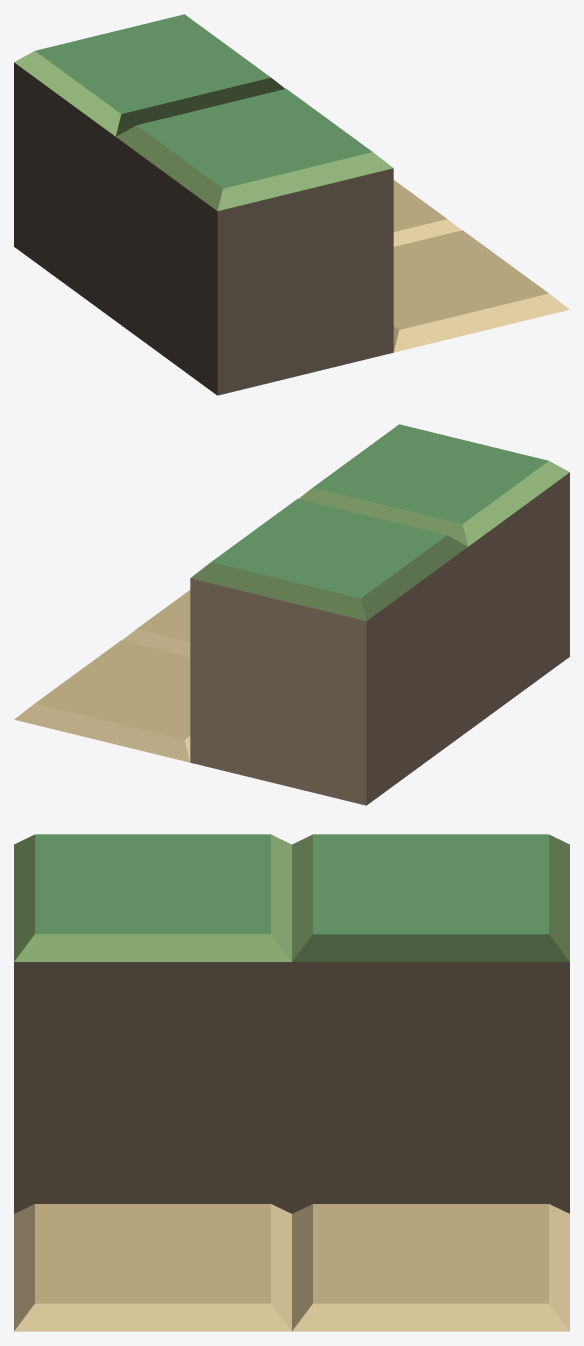
File: Cliff_Edge_Tile.001.obj
The picture shows the model from 3 angles, top to bottom: view 1: azimuth 30°, elevation 25°; view 2: azimuth 150°, elevation 25°; view 3: azimuth 270°, elevation 25°; orthographic projection. The views are drawn at different scales.
Parts seen in each view (by area): view 1: Cliff_Edge_Tile.001; view 2: Cliff_Edge_Tile.001; view 3: Cliff_Edge_Tile.001.
Part boxes in pixels (left/top/right/bottom): Cliff_Edge_Tile.001: left=14, top=14, right=569, bottom=395; Cliff_Edge_Tile.001: left=14, top=424, right=569, bottom=805; Cliff_Edge_Tile.001: left=14, top=834, right=569, bottom=1331.
Bounding box in the file's own units: 2 × 1.08 × 2.
